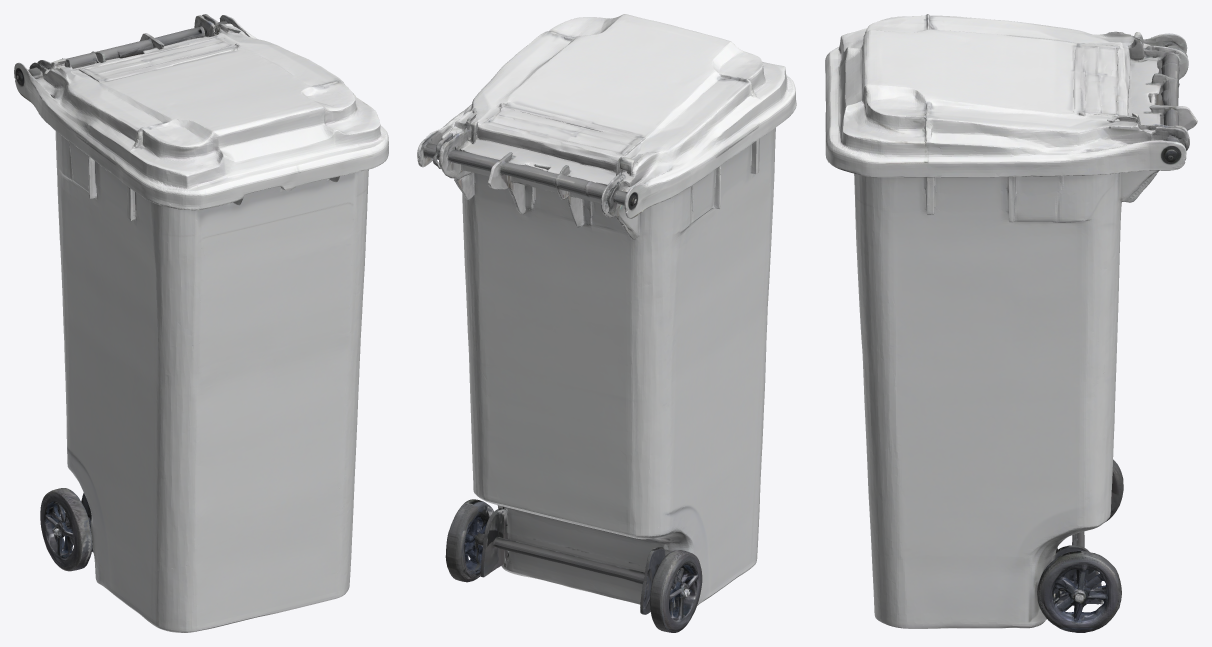
The model's file is Trash_Bin_on_Wheels_0706000745_texture.obj.
3 renders of one model, left to right at view 1: azimuth 30°, elevation 25°; view 2: azimuth 150°, elevation 25°; view 3: azimuth 270°, elevation 25°, orthographic. The views are drawn at different scales.
Visible parts, largest first — view 1: Trash_Bin_on_Wheels_0706000745_texture; view 2: Trash_Bin_on_Wheels_0706000745_texture; view 3: Trash_Bin_on_Wheels_0706000745_texture.
Boxes of the visible parts, x1=… form: Trash_Bin_on_Wheels_0706000745_texture: x1=14, y1=14, x2=388, y2=632; Trash_Bin_on_Wheels_0706000745_texture: x1=417, y1=14, x2=796, y2=632; Trash_Bin_on_Wheels_0706000745_texture: x1=825, y1=14, x2=1197, y2=632.
Bounding box in the file's own units: 0.9974 × 2 × 1.29.
1 material, 1 textured.
